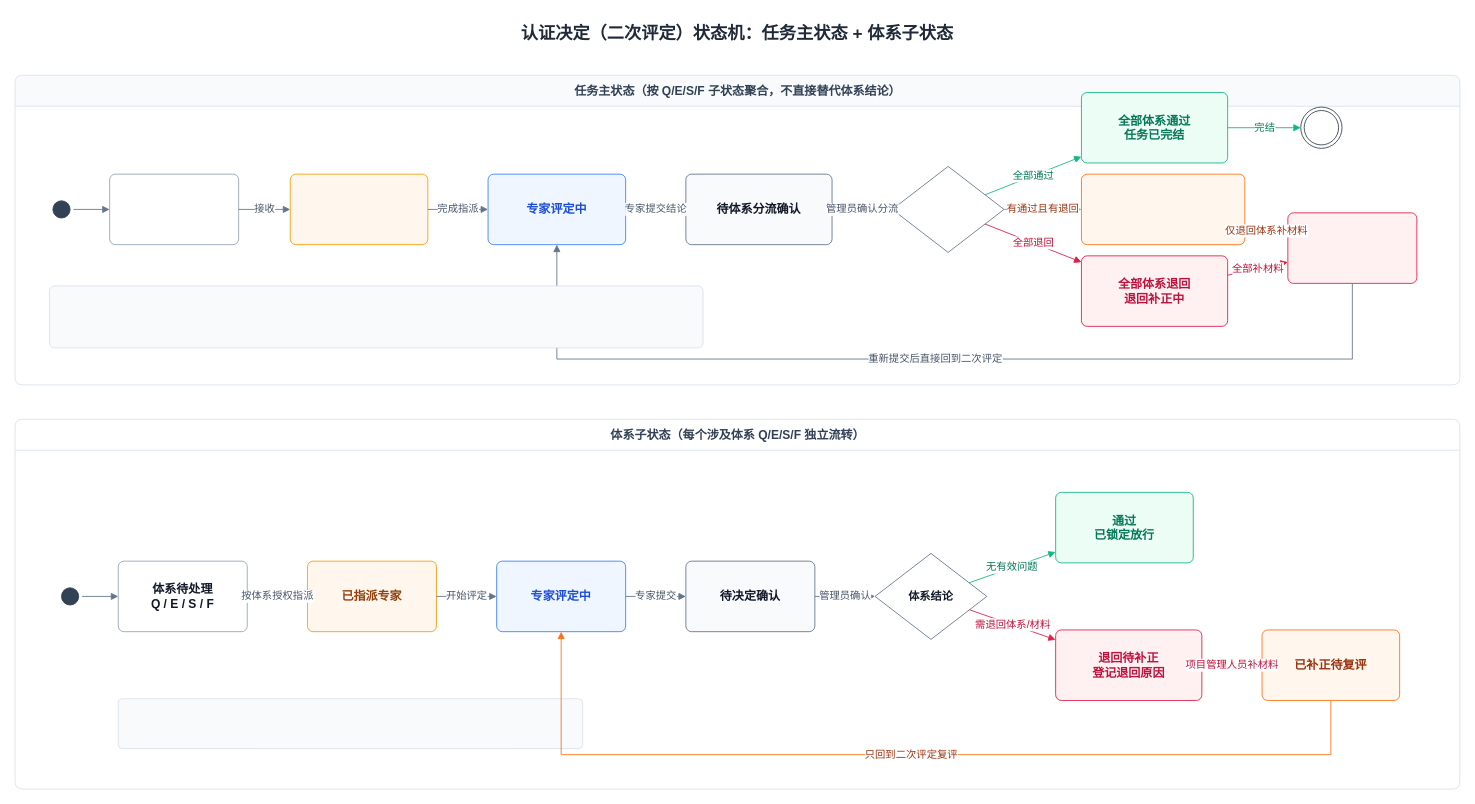
This 1475x804 diagram has some shape labels left out. Each missing label, with the centre of its shape:
"待指派专家" goes at (358,209).
"待接收" goes at (174,209).
"按体系判断结果" goes at (947,209).
"示例：Q、E 通过后保持锁定；S、F 退回补正后只复评 S、F。" goes at (350,723).
"聚合规则：任务状态由体系子状态计算。只要存在退回体系，任务不能进入全部完结；已经通过的体系应锁定放行，不参与补正循环。" goes at (376,316).
"退回体系补正" goes at (1352,247).
"部分通过部分退回 通过体系锁定放行" goes at (1163,209).
